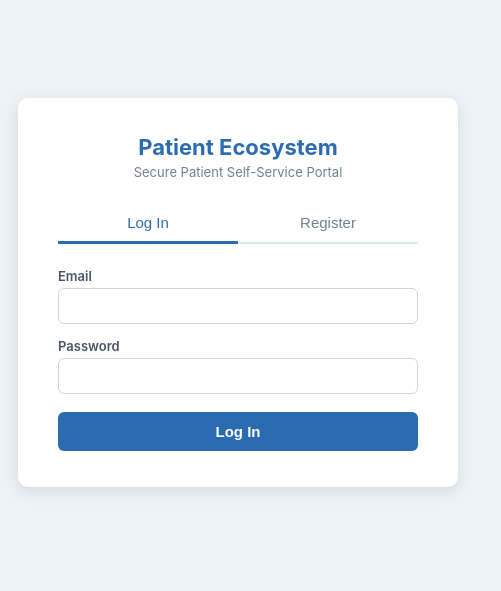
it: AuthPage › switches to the register form when the Register tab is clicked
Click the button "Register".
click(328, 224)  # box [238,204,418,244]
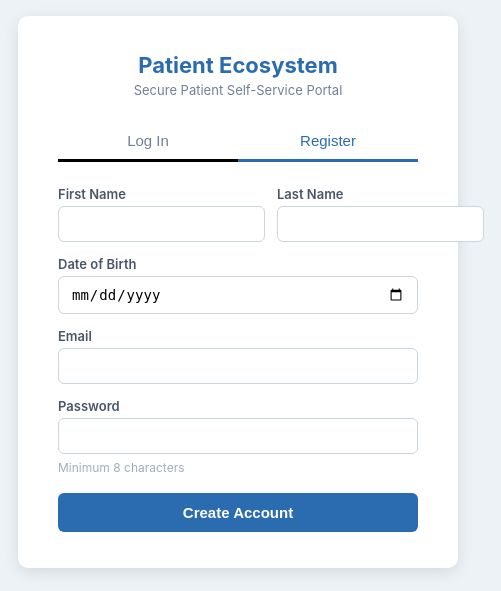
Expected: the field labelled "First Name" is shown, [58,206,265,242]
Expected: the field labelled "Last Name" is shown, [277,206,484,242]
Expected: the date field labelled "Date of Birth" is shown, [58,276,418,314]
